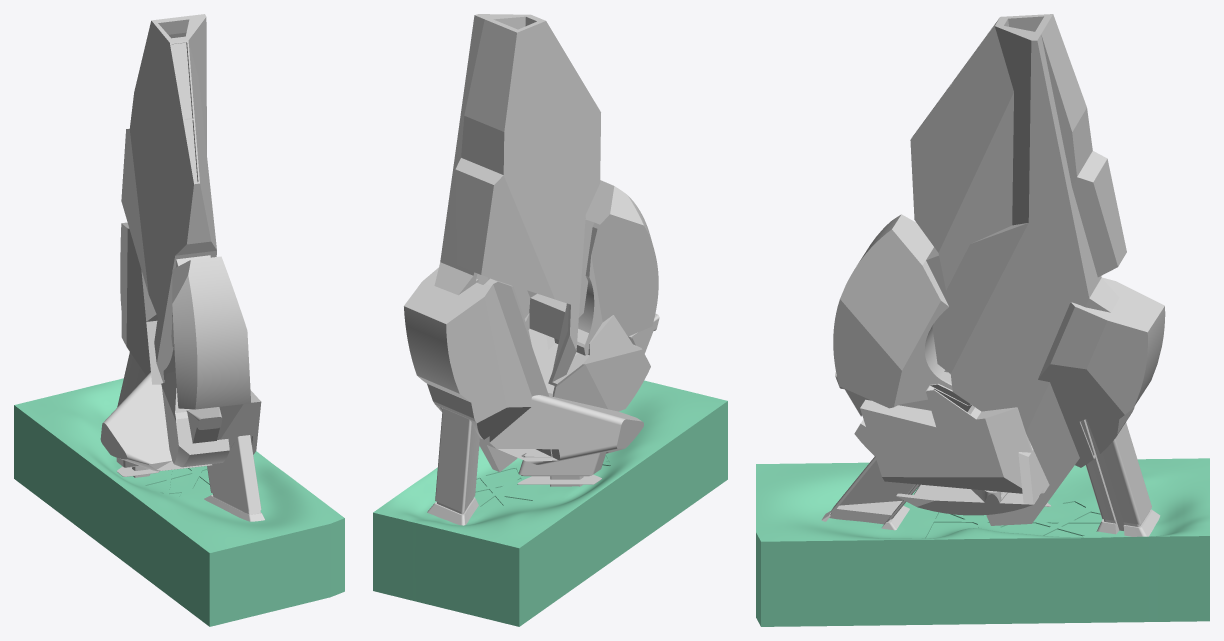
The model's file is jl_massing_2.glb.
3 renders of one model, left to right at view 1: azimuth 30°, elevation 25°; view 2: azimuth 150°, elevation 25°; view 3: azimuth 270°, elevation 25°, orthographic. The views are drawn at different scales.
Bounding box in the file's own units: 62.63 × 198 × 142.
